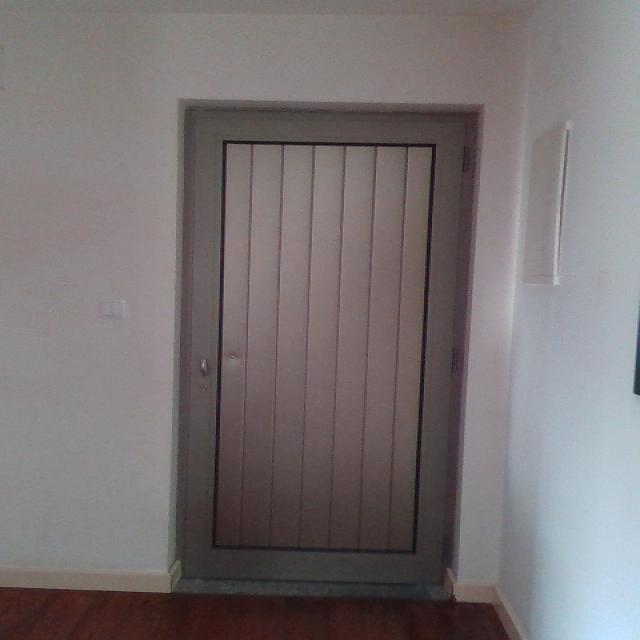door: (164, 98, 490, 605)
